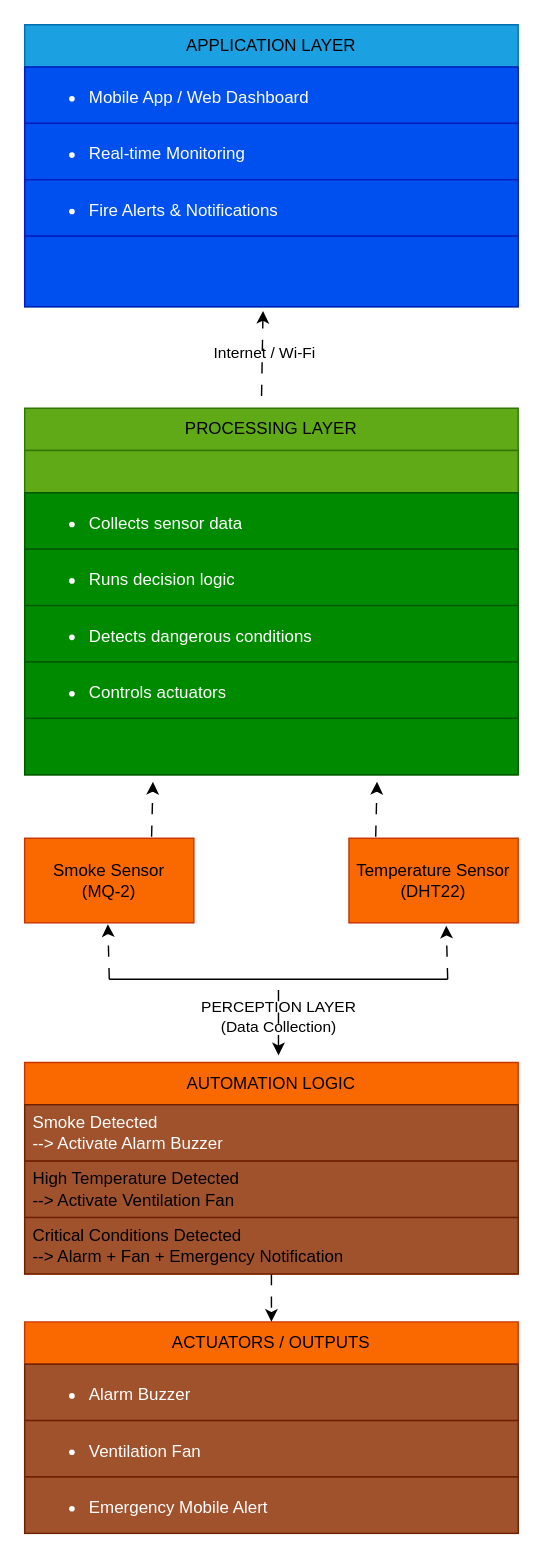
Image size: 543x1558. Some labels were removed from this diagram. The centre of each missing label's shape, as x and y in pixels:
ESP32 Controller: the point at 270,471
Historical Data & Analytics: the point at 270,271
Sends data to cloud / dashboard: the point at 270,746
